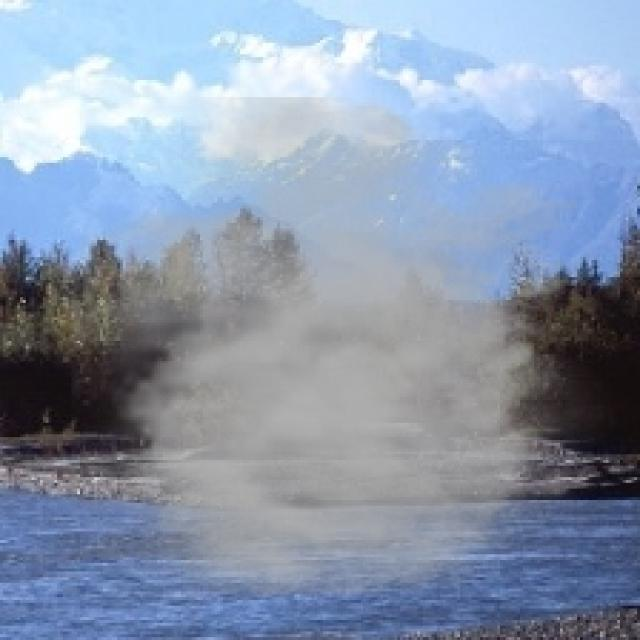Smoke: (71, 97, 634, 626)
